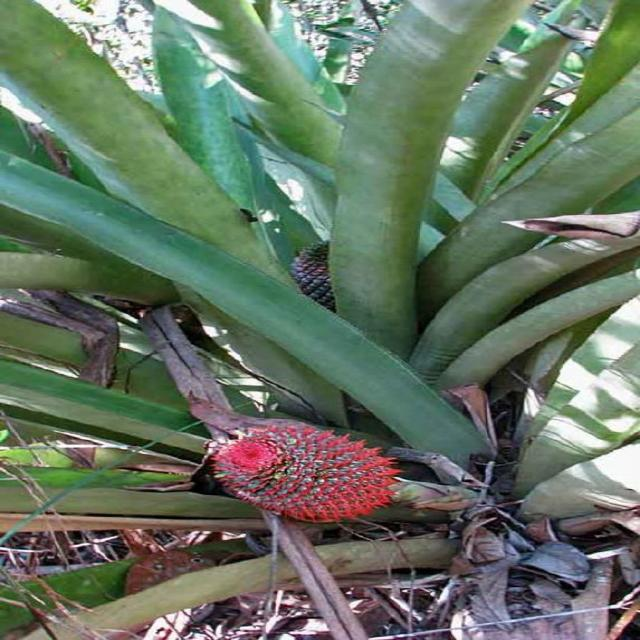Pineapple: (199, 418, 419, 530), (297, 234, 333, 308)
